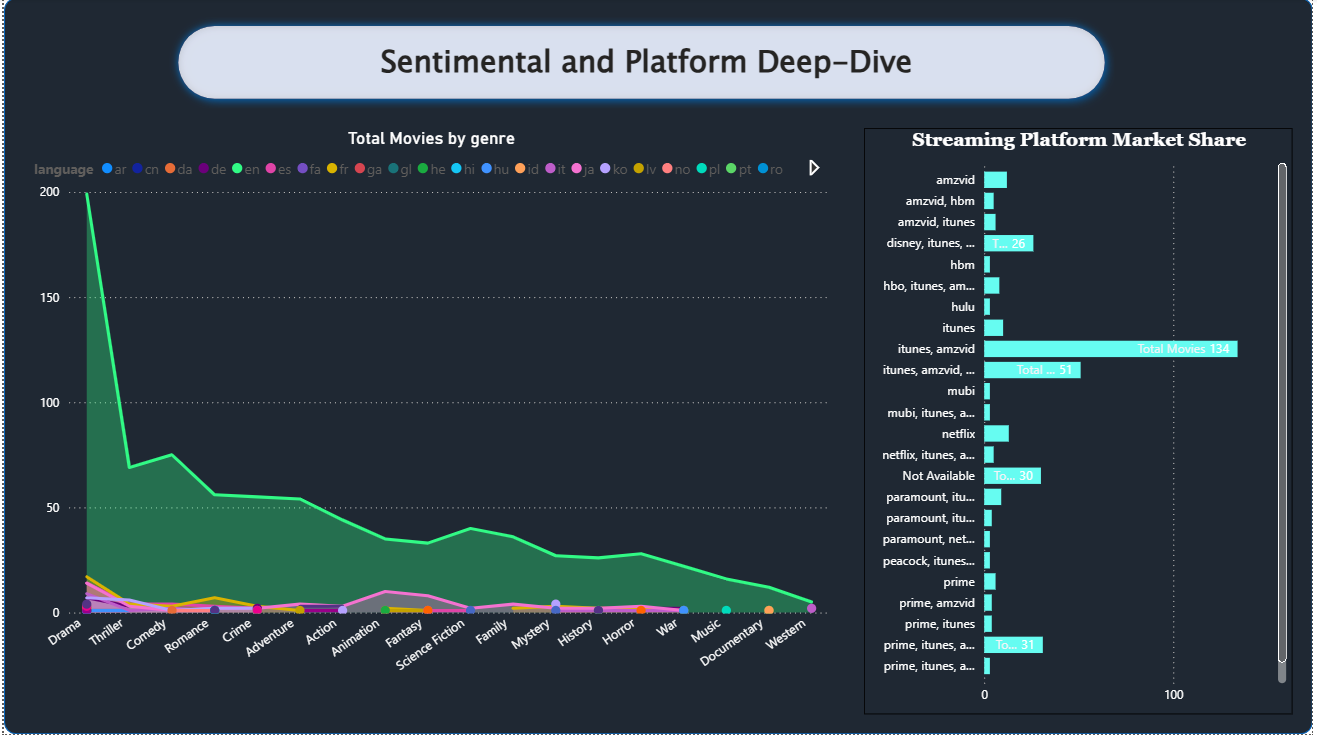

The page's visual inventory and layout, read from the dashboard file:
{"tool":"powerbi","page":{"name":"Sentiment and Platform Deep-Dive","canvas":[1280,720],"ordinal":1},"visuals":[{"type":"shape","box":[0,0,1280.3,720.2],"z":0},{"type":"clusteredBarChart","title":"Streaming Platform Market Share","fields":{"Category":["dim_movies.streaming_on"],"Y":["dim_directors.Total Movies"]},"box":[841.3,127.2,419.4,573.5],"z":1000},{"type":"areaChart","title":"Total Movies by genre","fields":{"Category":["dim_genres.genre"],"Y":["dim_directors.Total Movies"],"Series":["dim_movies.language"]},"box":[24.5,127.2,787.5,553.9],"z":2000},{"type":"shape","box":[161.4,18.3,924.5,89.3],"z":2001},{"type":"textbox","title":"Sentimental and Platform Deep-Dive","box":[192,40.4,873.1,42.8],"z":2002}]}

Visuals, with their boxes in screenshot pixels (x1, y1, x2, y2), scaled from the page's 1280x720 canvas onto the 1317x735 screenshot:
shape: {"x1": 0, "y1": 0, "x2": 1316, "y2": 734}
"Streaming Platform Market Share" clusteredBarChart: {"x1": 866, "y1": 130, "x2": 1297, "y2": 715}
"Total Movies by genre" areaChart: {"x1": 25, "y1": 130, "x2": 835, "y2": 695}
shape: {"x1": 166, "y1": 19, "x2": 1117, "y2": 110}
"Sentimental and Platform Deep-Dive" textbox: {"x1": 198, "y1": 41, "x2": 1096, "y2": 85}
